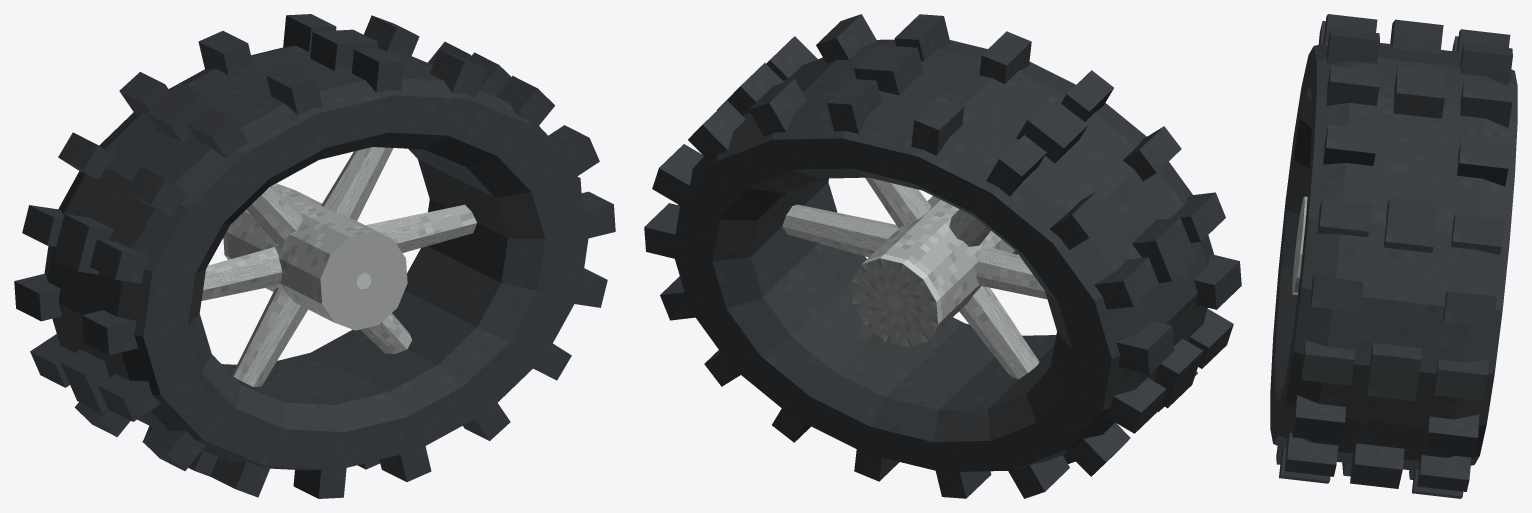
Rendered from deflated_wheel_motorbike_or.glb.
3 renders of one model, left to right at view 1: azimuth 30°, elevation 25°; view 2: azimuth 150°, elevation 25°; view 3: azimuth 270°, elevation 25°, orthographic. The views are drawn at different scales.
Visible parts, largest first — view 1: block_wheel cross section, block_raised off-road stud (×27), block_radial spoke (×6), block_wheel hub, block_center block (×5); view 2: block_wheel cross section, block_raised off-road stud (×27), block_wheel hub, block_radial spoke (×5), block_center block (×5); view 3: block_wheel cross section, block_raised off-road stud (×20), block_center block (×5), block_wheel hub.
Boxes of the visible parts, x1=… form: block_wheel cross section: x1=44, y1=45, x2=589, y2=470; block_raised off-road stud (×27): x1=14, y1=14, x2=615, y2=498; block_radial spoke (×6): x1=201, y1=147, x2=476, y2=386; block_wheel hub: x1=223, y1=183, x2=407, y2=330; block_center block (×5): x1=53, y1=29, x2=510, y2=412; block_wheel cross section: x1=672, y1=39, x2=1214, y2=472; block_raised off-road stud (×27): x1=644, y1=14, x2=1241, y2=498; block_wheel hub: x1=851, y1=196, x2=1018, y2=347; block_radial spoke (×5): x1=782, y1=177, x2=1047, y2=378; block_center block (×5): x1=716, y1=45, x2=1202, y2=408; block_wheel cross section: x1=1270, y1=43, x2=1517, y2=470; block_raised off-road stud (×20): x1=1279, y1=14, x2=1512, y2=498; block_center block (×5): x1=1350, y1=19, x2=1445, y2=488; block_wheel hub: x1=1292, y1=196, x2=1307, y2=294.
Bounding box in the file's own units: 0.508 × 0.4026 × 0.2186.
Materials: 1 (1 with a texture image).
